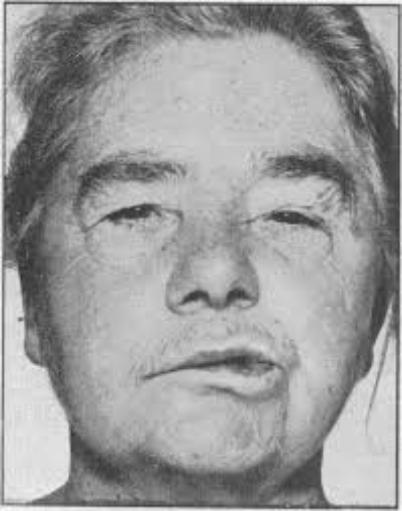left_eye: (255, 199, 330, 239)
left_lip_corner: (265, 355, 294, 382)
right_eye: (91, 196, 171, 235)
right_lip_corner: (140, 362, 170, 391)
